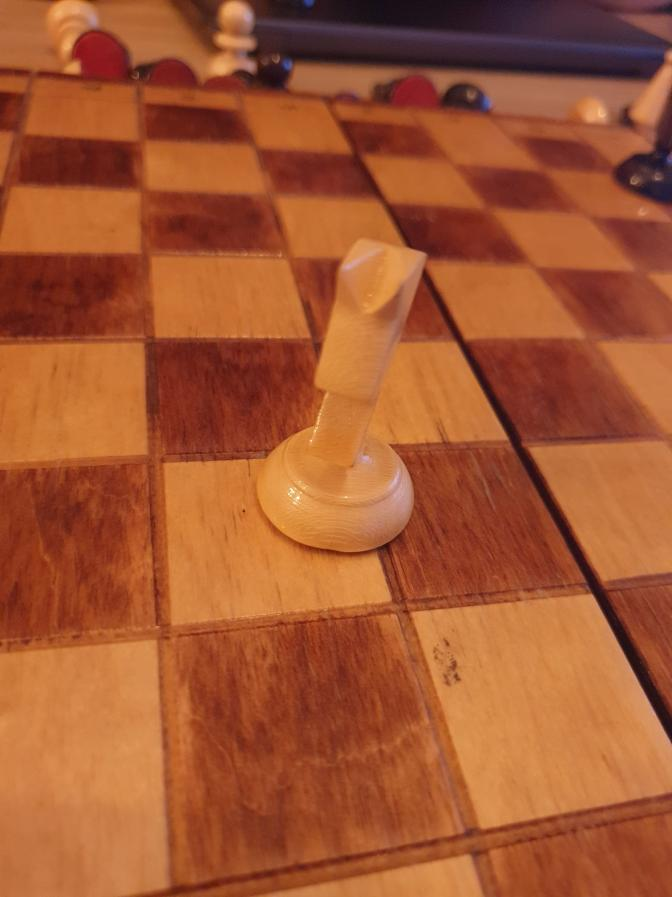wknight: (254, 238, 430, 554)
